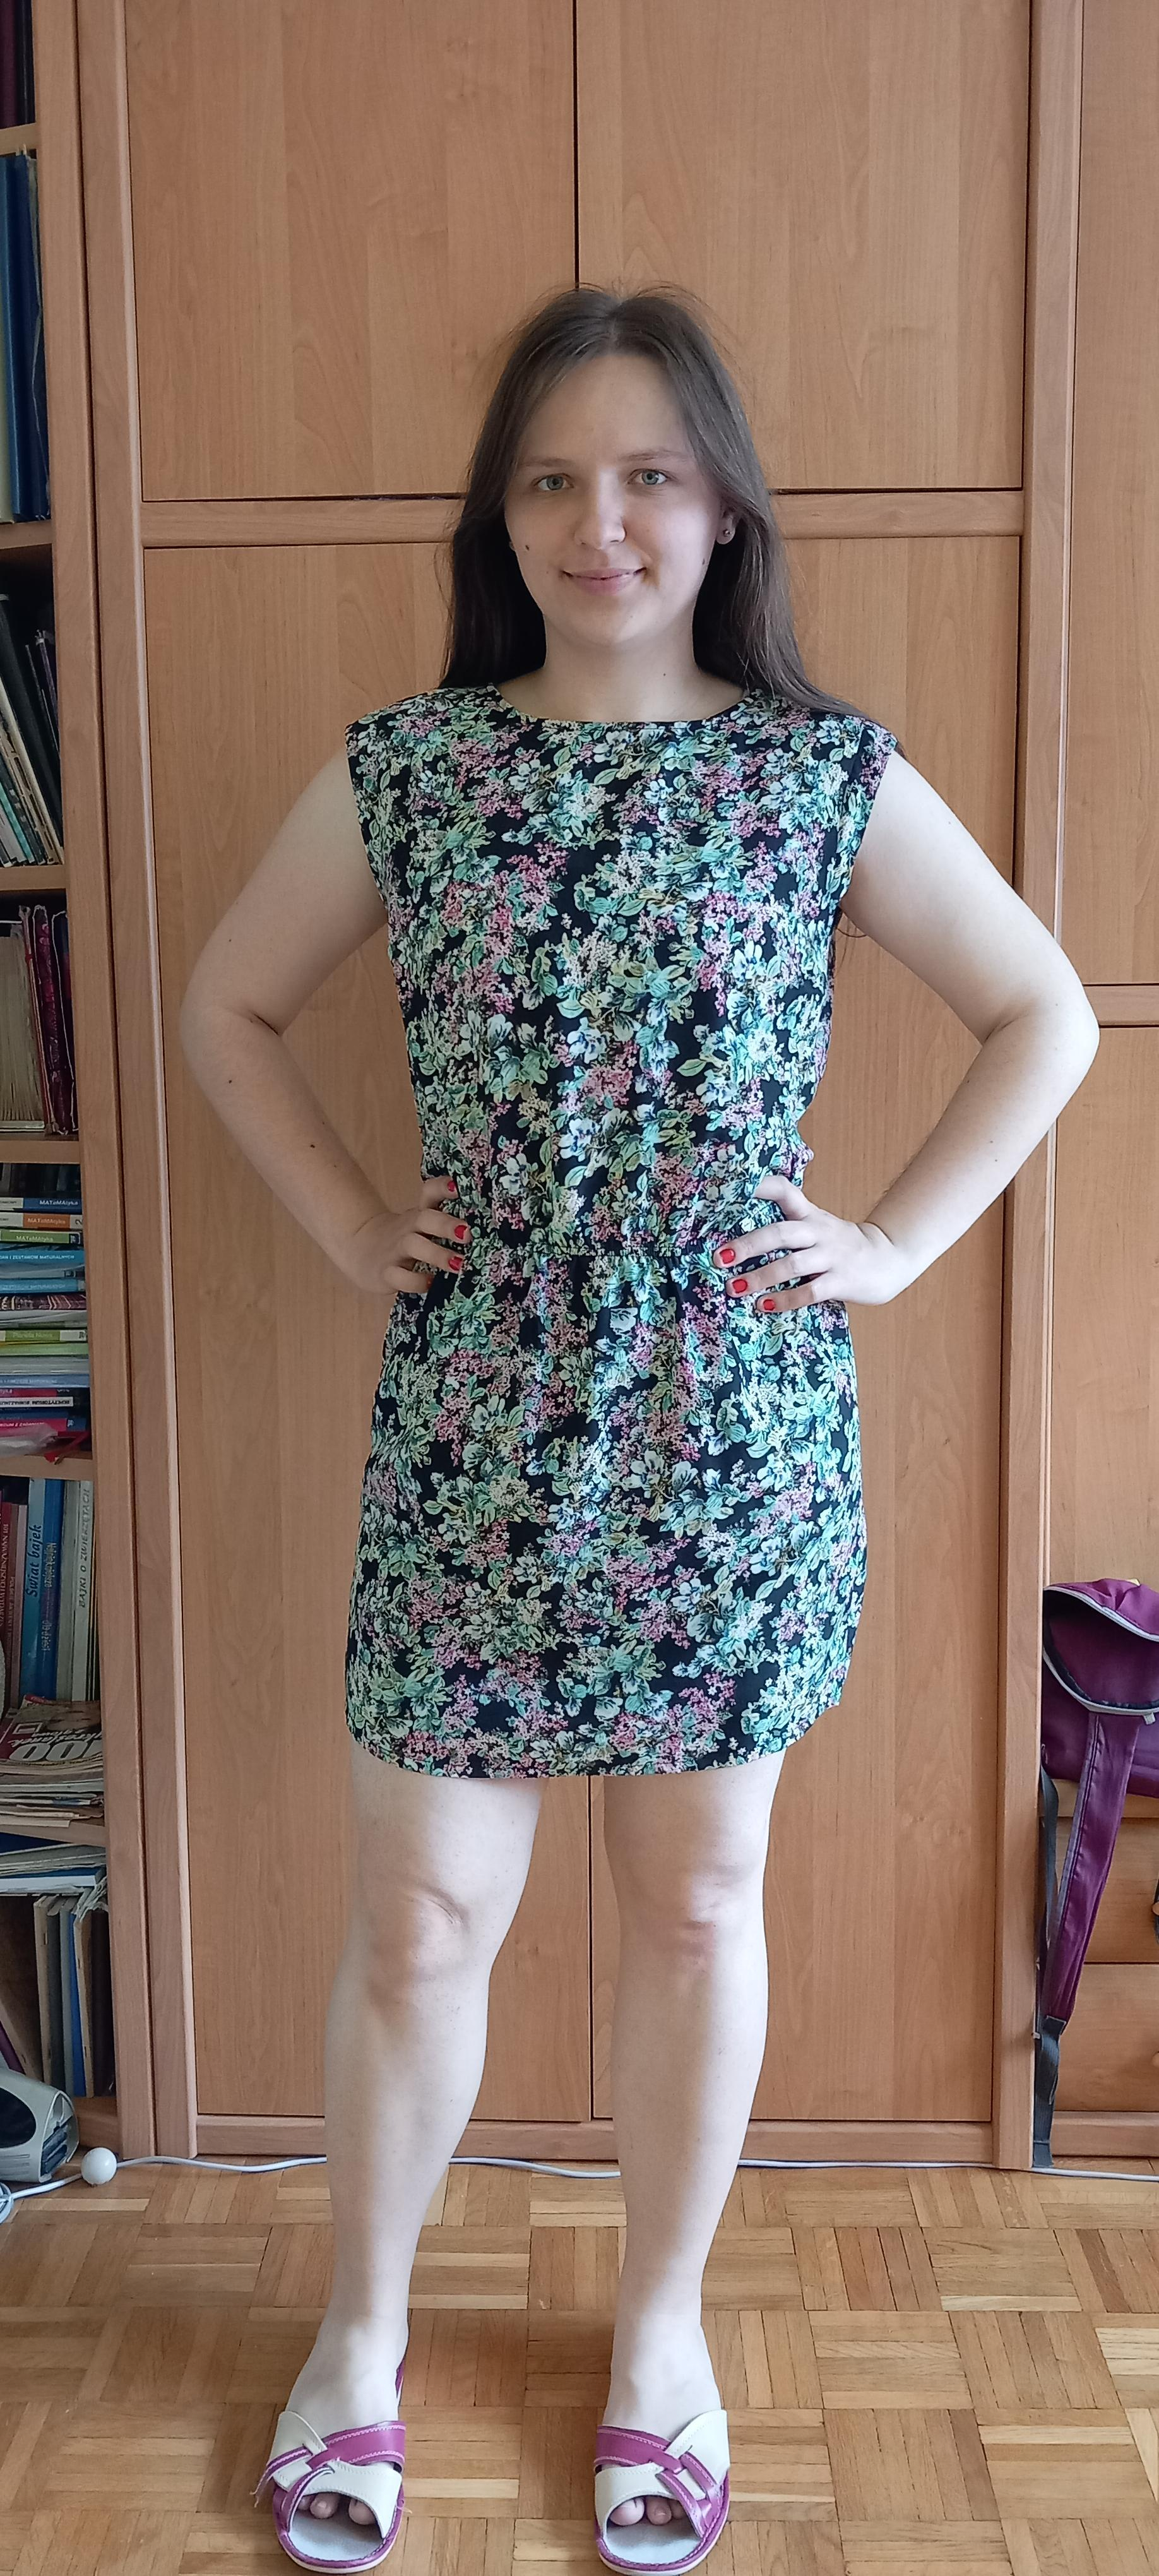dress: (346, 683, 901, 1778)
